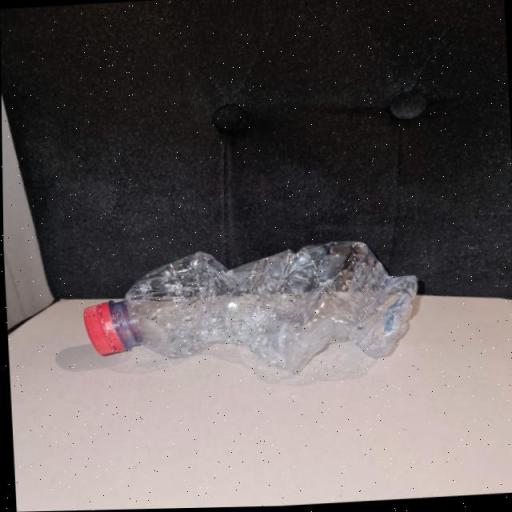plastic: (75, 237, 432, 389)
